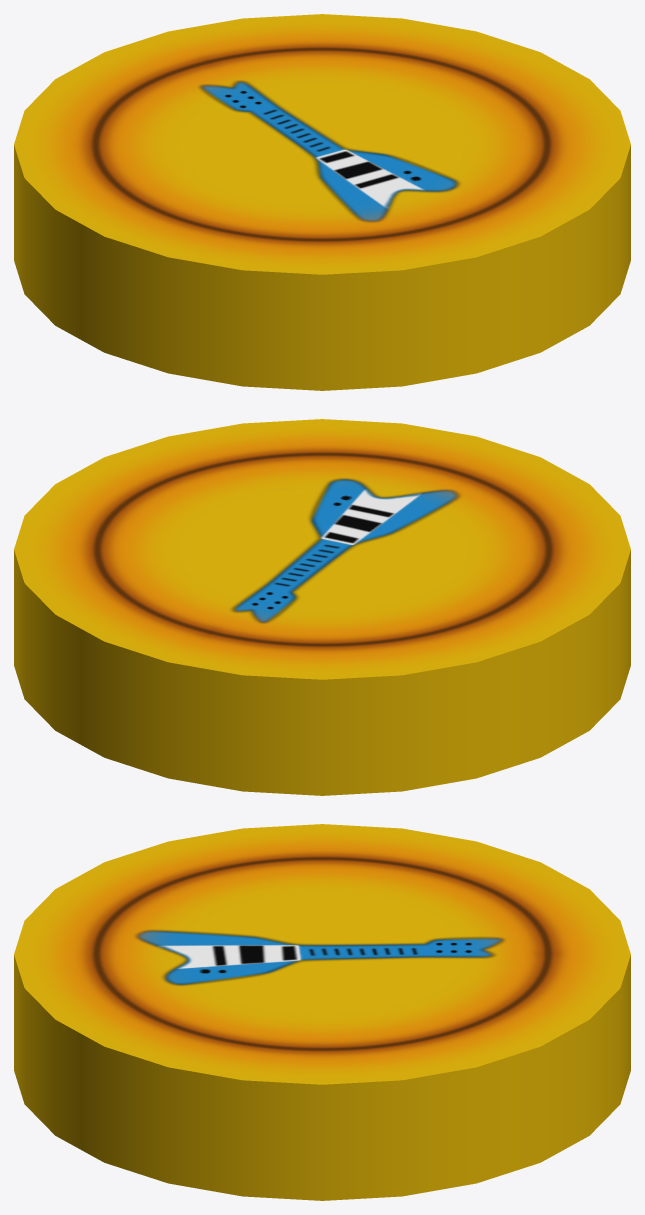
The model's file is yellow_coin.FBX.
3 renders of one model, top to bottom at view 1: azimuth 30°, elevation 25°; view 2: azimuth 150°, elevation 25°; view 3: azimuth 270°, elevation 25°, orthographic.
Visible parts, largest first — view 1: Cylinder005; view 2: Cylinder005; view 3: Cylinder005.
Boxes of the visible parts, <box> form: Cylinder005: <box>14,14,630,390</box>; Cylinder005: <box>14,419,630,795</box>; Cylinder005: <box>14,824,630,1200</box>.
Size of the model in its own units: 12.72 by 2.64 by 12.72.
1 material, 1 textured.
